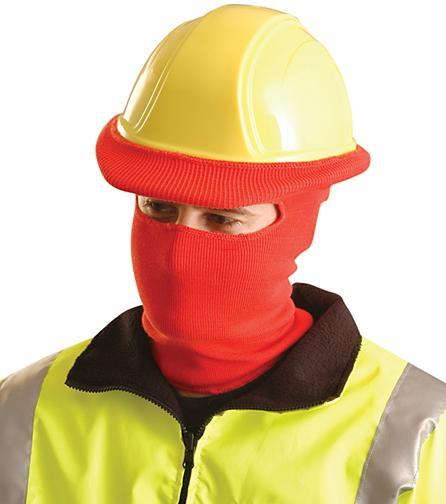helmet: (116, 2, 361, 169)
